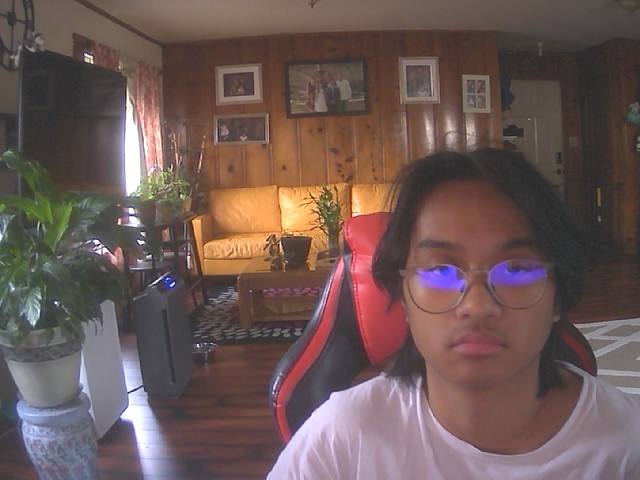neutral: (392, 150, 576, 394)
